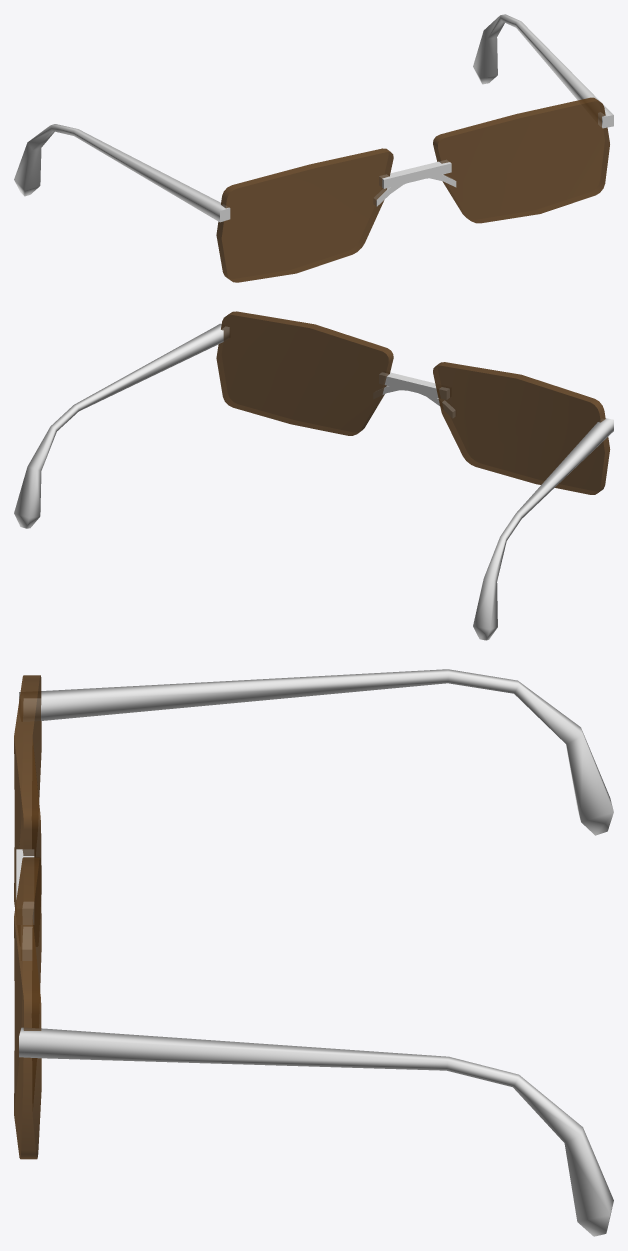
Rendered from rect_shades.glb.
The picture shows the model from 3 angles, top to bottom: view 1: azimuth 30°, elevation 25°; view 2: azimuth 150°, elevation 25°; view 3: azimuth 270°, elevation 25°; orthographic projection. The views are drawn at different scales.
Visible parts, largest first — view 1: RectShades; view 2: RectShades; view 3: RectShades.
Boxes of the visible parts, bbox=[...] form: RectShades: bbox=[14, 14, 613, 282]; RectShades: bbox=[14, 311, 613, 640]; RectShades: bbox=[14, 669, 613, 1236].
Size of the model in its own units: 0.5942 by 0.1374 by 0.3611.
